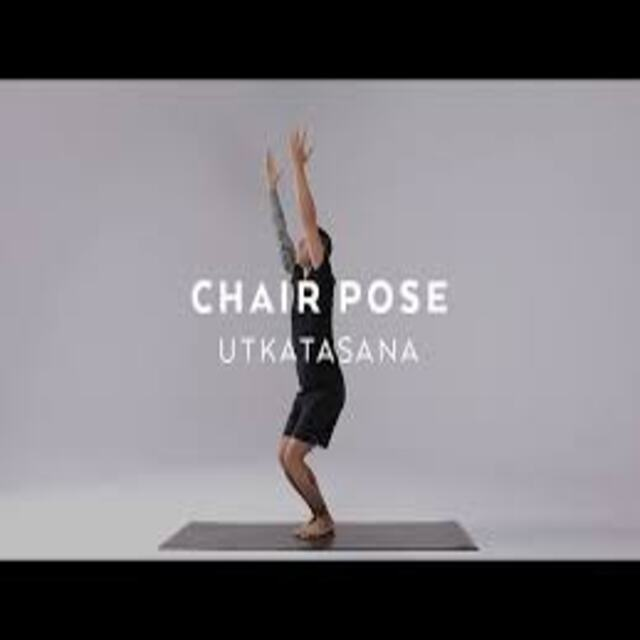Squat_Pose: (256, 127, 350, 545)
